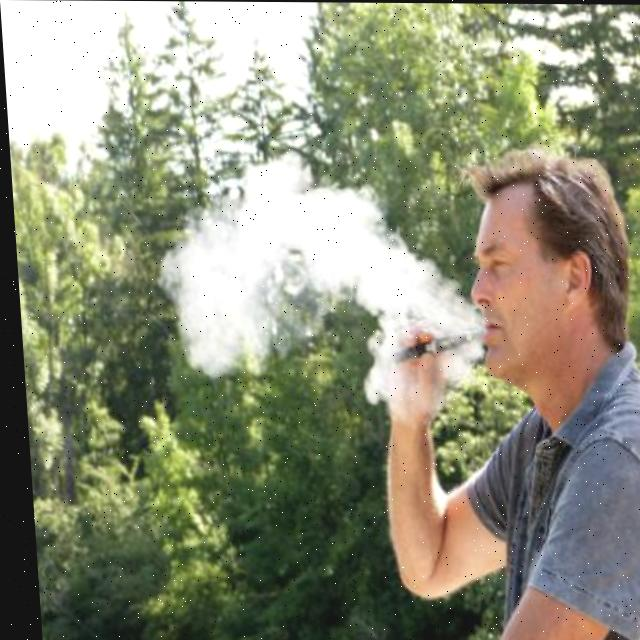vape: (386, 331, 482, 364)
